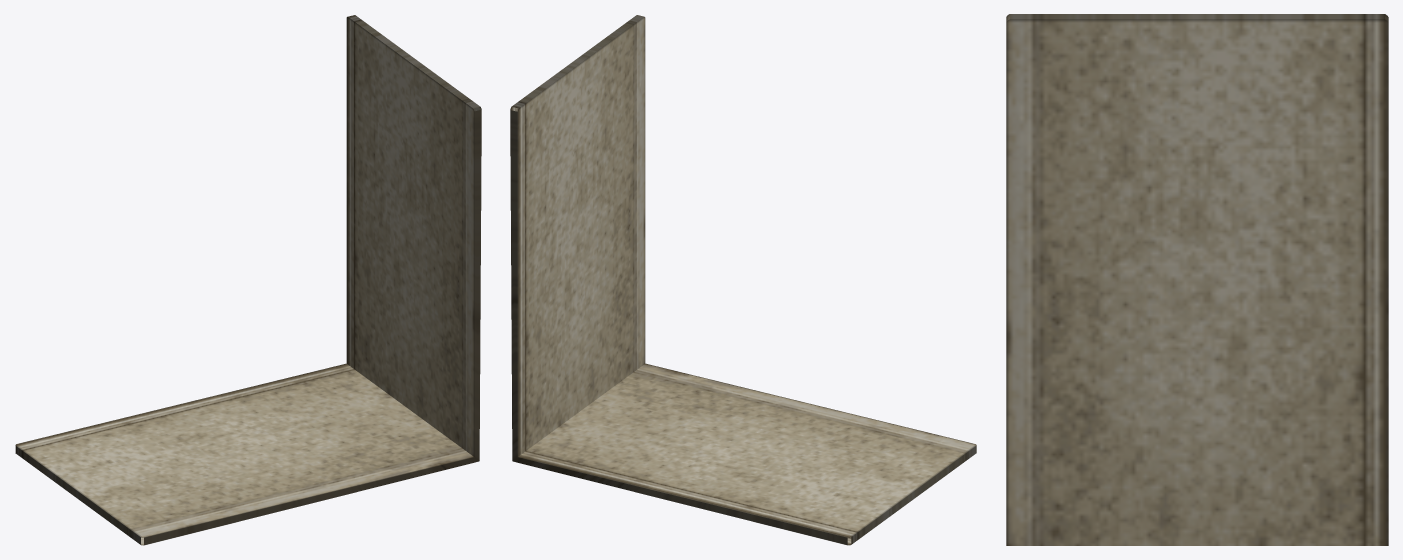
Rendered from SM_EC_House_Wall_9x3_Bend_0.fbx.
The picture shows the model from 3 angles, left to right: view 1: azimuth 30°, elevation 25°; view 2: azimuth 150°, elevation 25°; view 3: azimuth 270°, elevation 25°; orthographic projection. The views are drawn at different scales.
Visible parts, largest first — view 1: SM_EC_House_Wall_9x3_Bend_0; view 2: SM_EC_House_Wall_9x3_Bend_0; view 3: SM_EC_House_Wall_9x3_Bend_0.
Part boxes in pixels (x1=…): SM_EC_House_Wall_9x3_Bend_0: x1=15, y1=15, x2=481, y2=545; SM_EC_House_Wall_9x3_Bend_0: x1=510, y1=15, x2=976, y2=545; SM_EC_House_Wall_9x3_Bend_0: x1=1006, y1=14, x2=1388, y2=545.
Bounding box in the file's own units: 4.6 × 3 × 4.6.
